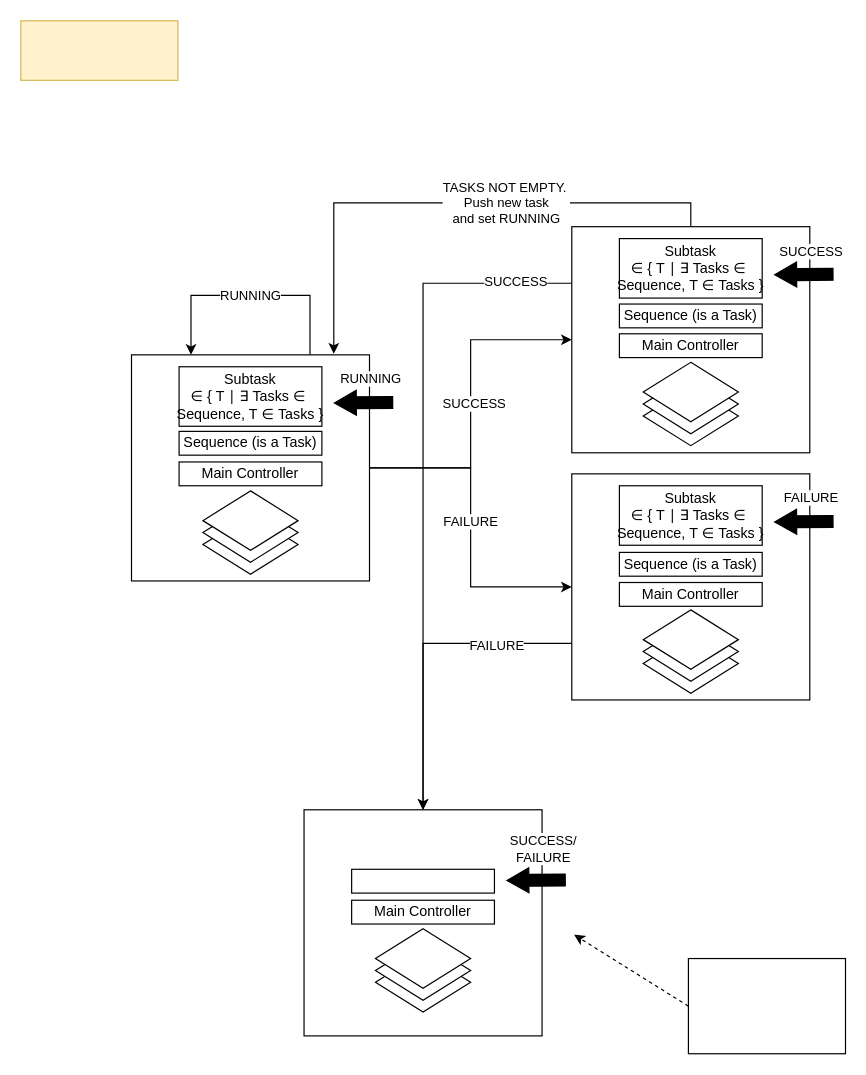
Image size: 866x1075. Some labels were removed from this diagram. Each missing label, with the centre of its shape:
It is up to the main controller to decide what to do with the status message.: pixel 766 1005
Sequence: pixel 422 880
Sequence Composite as Non-Root Task: pixel 99 50
